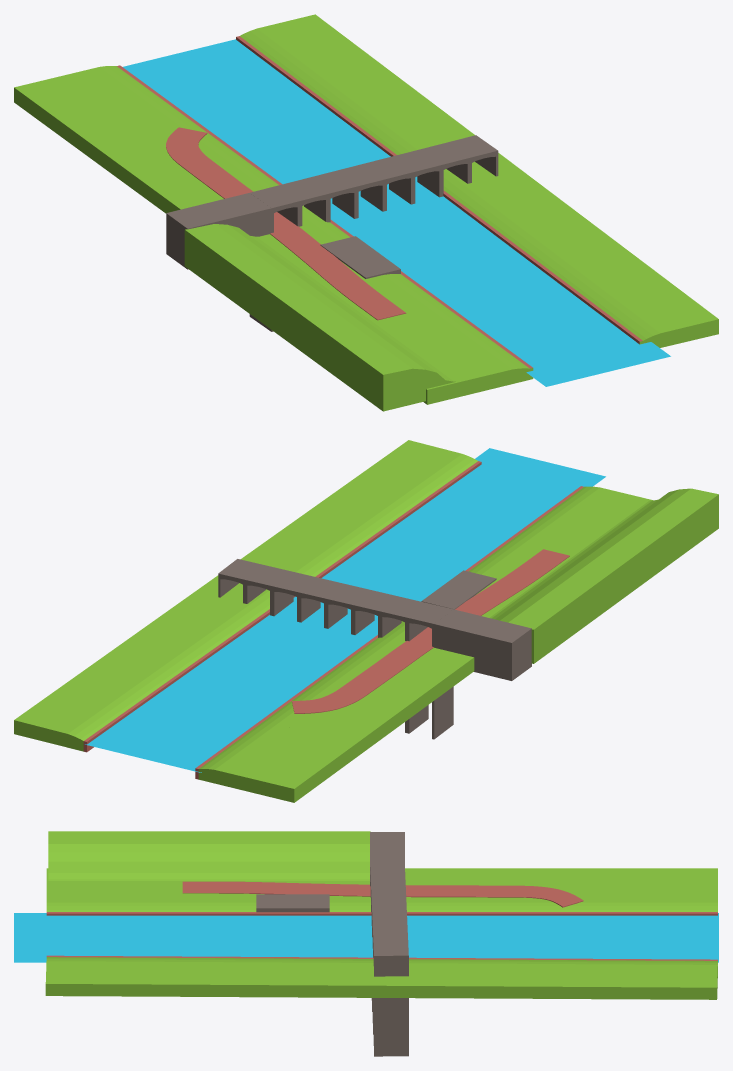
The model's file is main.glb.
3 renders of one model, top to bottom at view 1: azimuth 30°, elevation 25°; view 2: azimuth 150°, elevation 25°; view 3: azimuth 270°, elevation 25°, orthographic. The views are drawn at different scales.
Parts seen in each view (by area): view 1: River, Offroad2, Offroad1, Hill, Road Bridge, Cube, BridgeEnd, Cube.001; view 2: River, Offroad2, Offroad1, Hill, Road Bridge, Cube, BridgeEnd, Cube.001; view 3: River, Offroad2, Offroad1, Hill, Road Bridge, Cube, Cube.001, BridgeEnd.
Part boxes in pixels (x1,y1,x2,y2): River: (123,39,670,386); Offroad2: (236,14,718,347); Offroad1: (14,65,533,404); Hill: (184,224,456,411); Road Bridge: (249,135,498,331); Cube: (166,127,406,320); BridgeEnd: (166,193,271,269); Cube.001: (320,236,400,278); River: (85,448,605,772); Offroad2: (14,440,481,752); Offroad1: (195,486,652,802); Hill: (489,488,718,663); Road Bridge: (218,559,453,739); Cube: (292,549,569,713); BridgeEnd: (433,609,531,680); Cube.001: (421,570,496,609); River: (14,913,718,962); Offroad2: (45,955,717,999); Offroad1: (46,868,717,915); Hill: (48,831,370,880); Road Bridge: (370,865,408,1056); Cube: (182,881,583,907); Cube.001: (256,894,329,912); BridgeEnd: (370,832,404,865).
Bounding box in the file's own units: 192 × 66.12 × 420.
